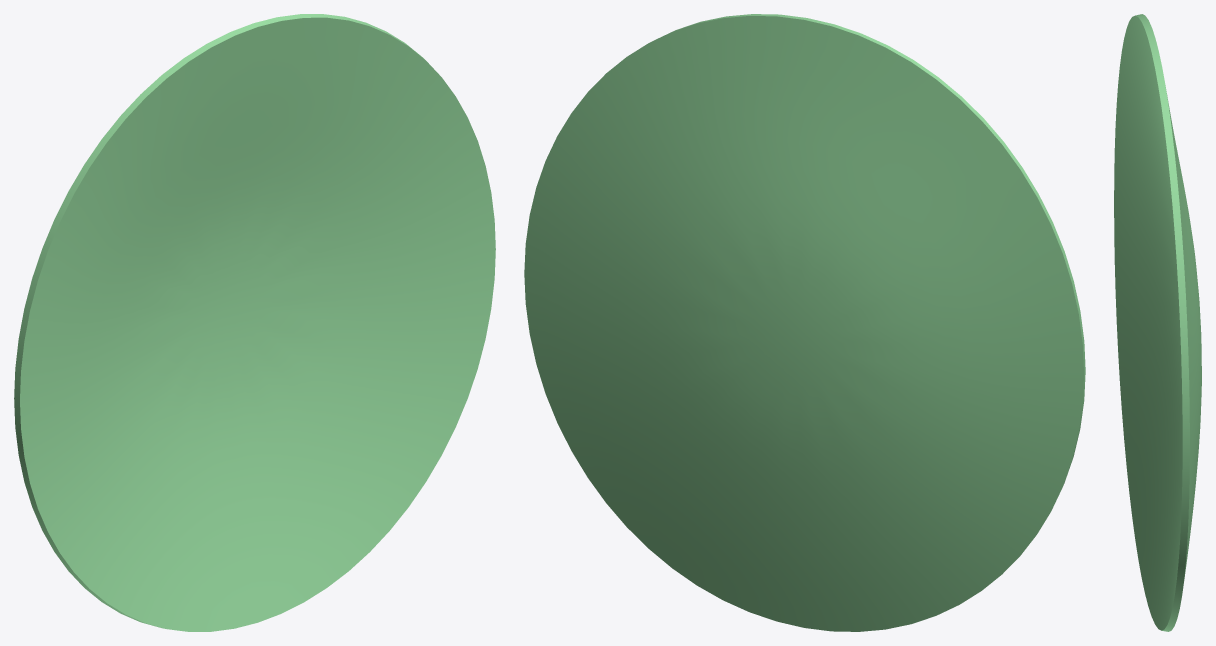
The model's file is NINGYO_outlinetest_eye.fbx.
3 views of the same model, side by side, from view 1: azimuth 30°, elevation 25°; view 2: azimuth 150°, elevation 25°; view 3: azimuth 270°, elevation 25° (orthographic). The views are drawn at different scales.
Visible parts, largest first — view 1: NI_eye1; view 2: NI_eye1; view 3: NI_eye1.
Boxes of the visible parts, left/top/right/bottom form: NI_eye1: left=14, top=14, right=495, bottom=631; NI_eye1: left=524, top=14, right=1085, bottom=631; NI_eye1: left=1114, top=14, right=1201, bottom=631.
Size of the model in its own units: 7.74 by 8.6 by 1.2.
